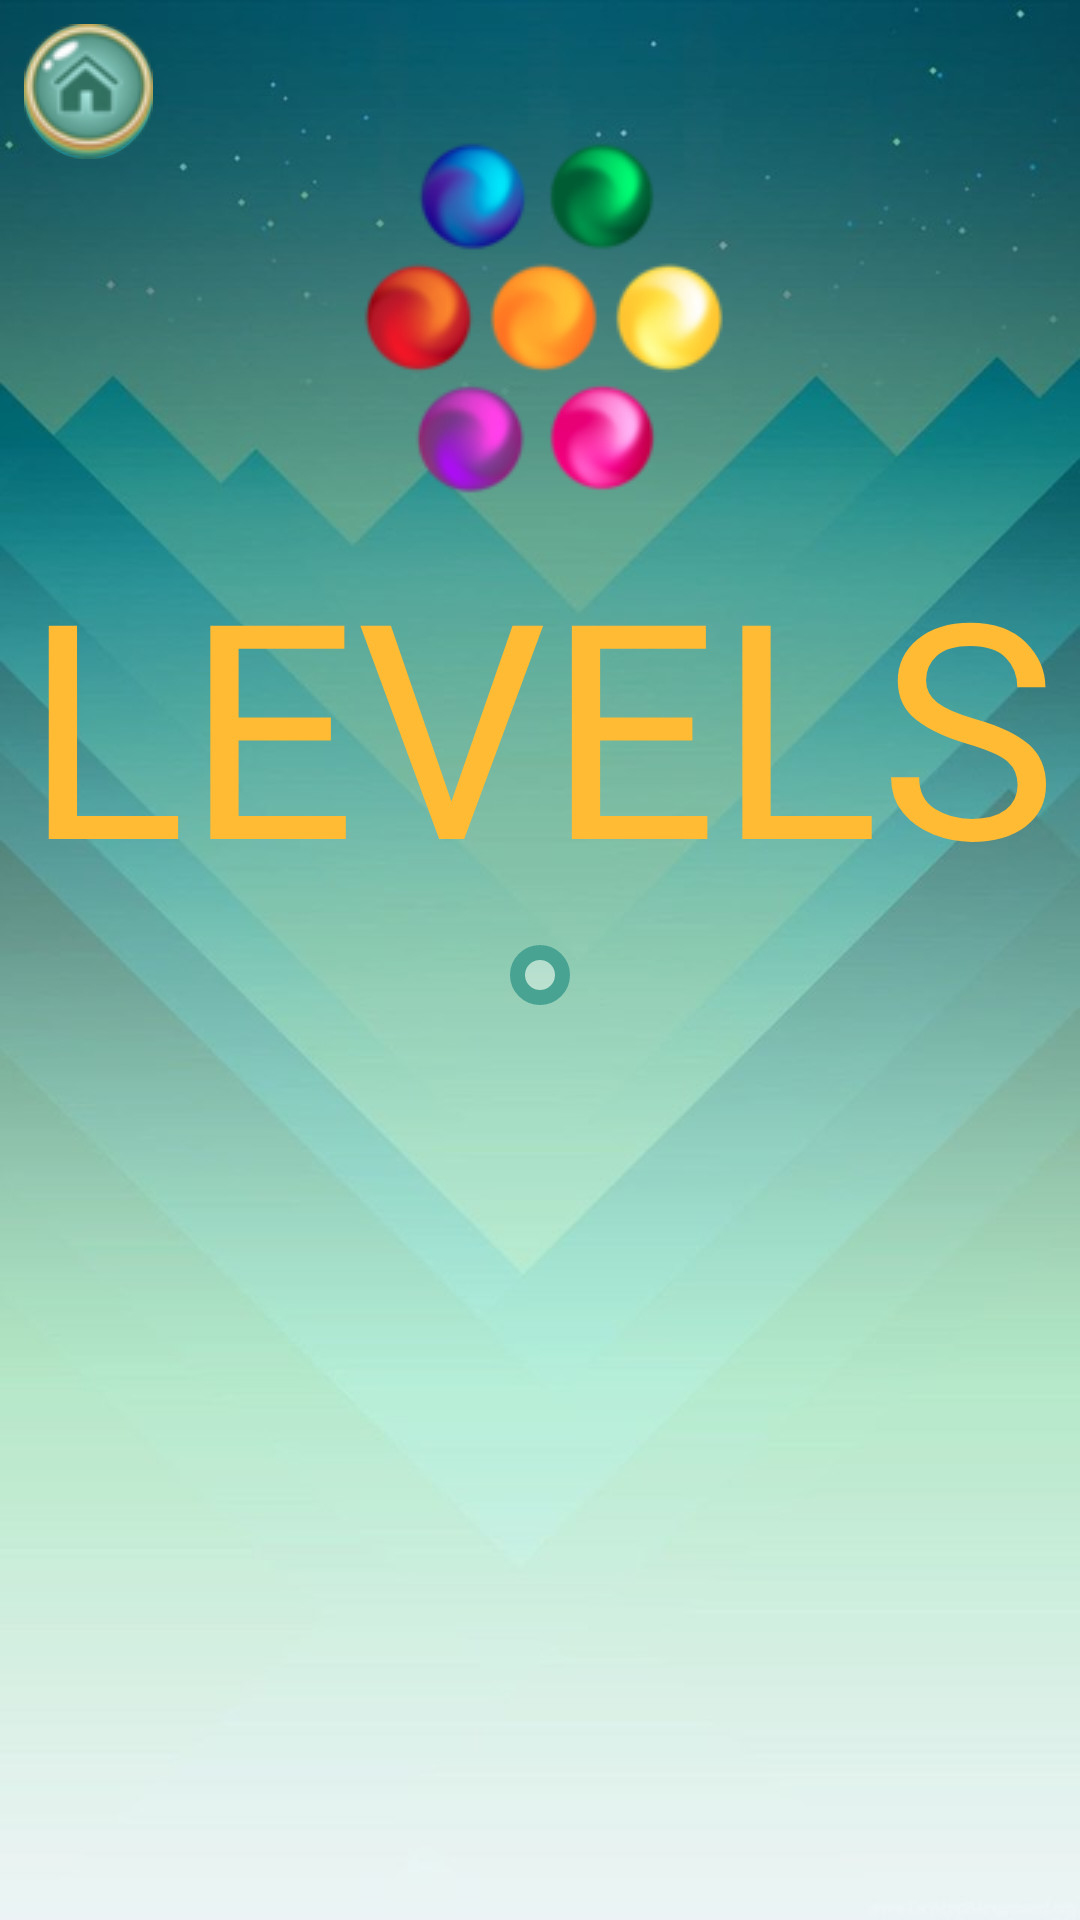

Named icons in this screenshot (1080×1920) and their centers, (x,y):
home: (88,91)
